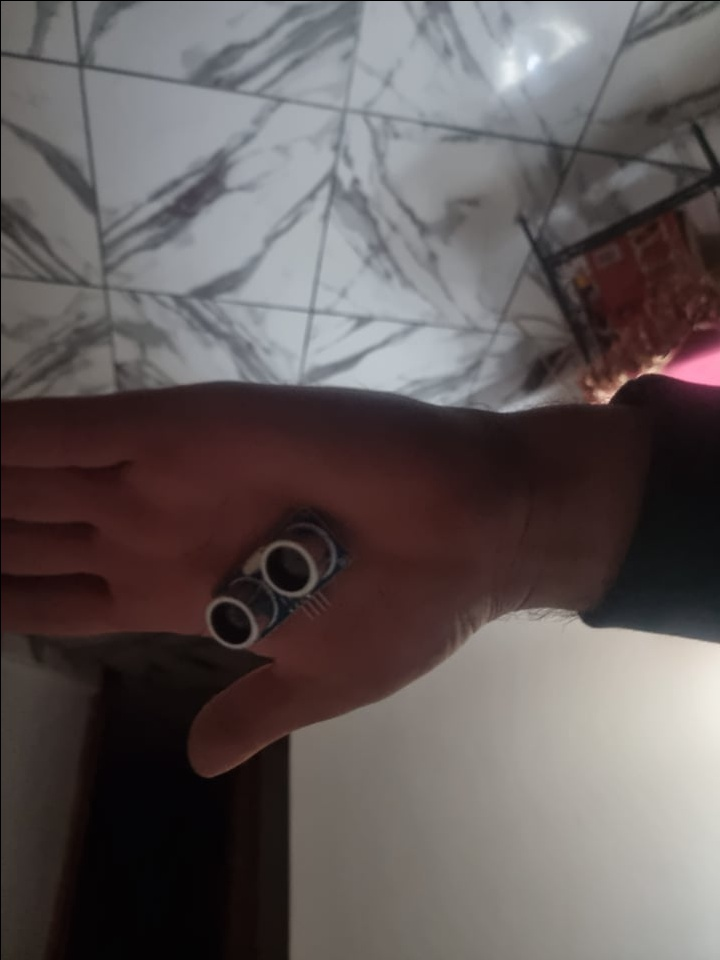SENSOR: (201, 508, 346, 650)
